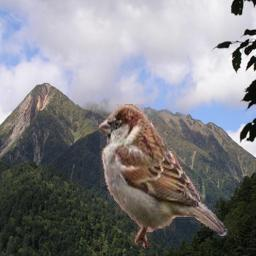Sparrow: (99, 104, 229, 248)
